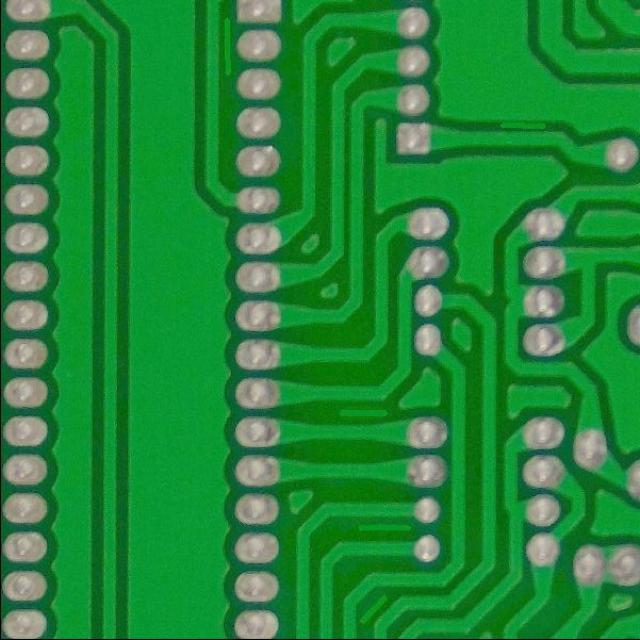Spurious_Cooper: (348, 589, 396, 630), (332, 402, 394, 422), (218, 12, 236, 80), (354, 518, 416, 536), (493, 117, 551, 132)
